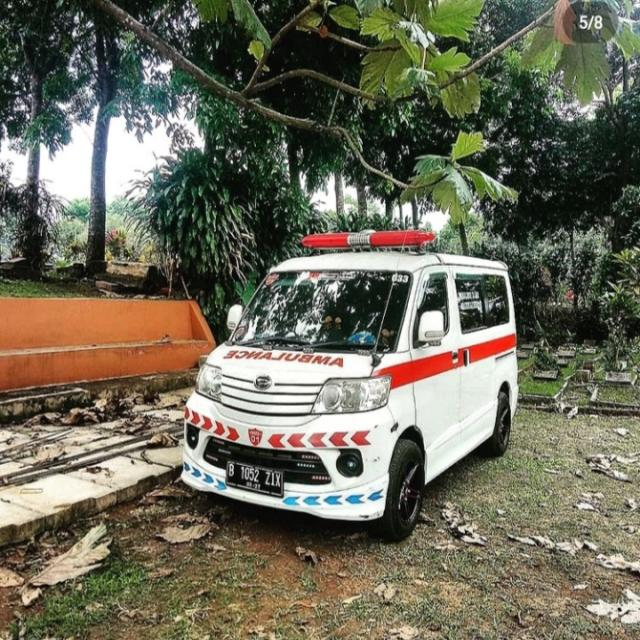emergency-vehicle: (177, 231, 538, 545)
